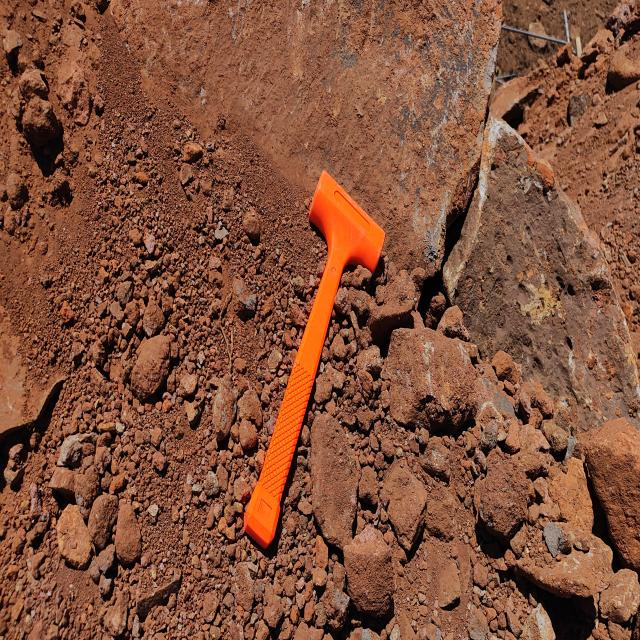Orange_hammer: (243, 168, 386, 550)
